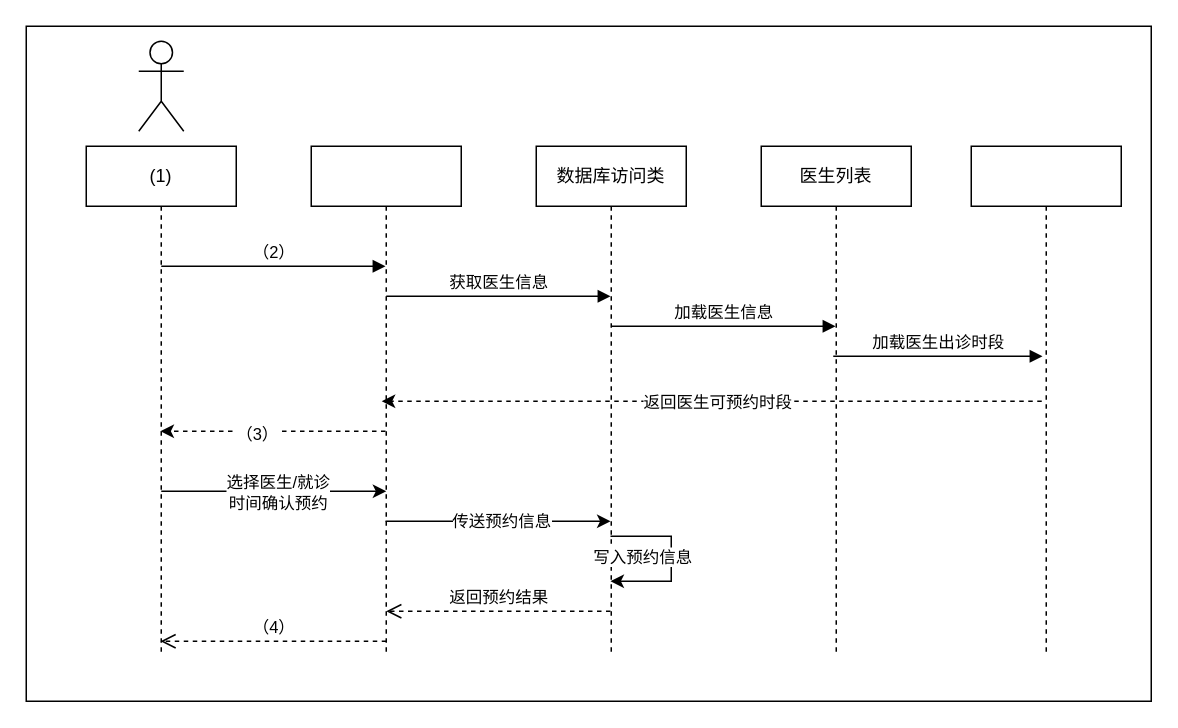
Some shapes in this 1178 by 728 pixel diagram are drawn without their labels. Each missing label, with the box of its shape:
医生出诊时段表: (970, 145, 1121, 656)
预约界面: (310, 145, 461, 656)
